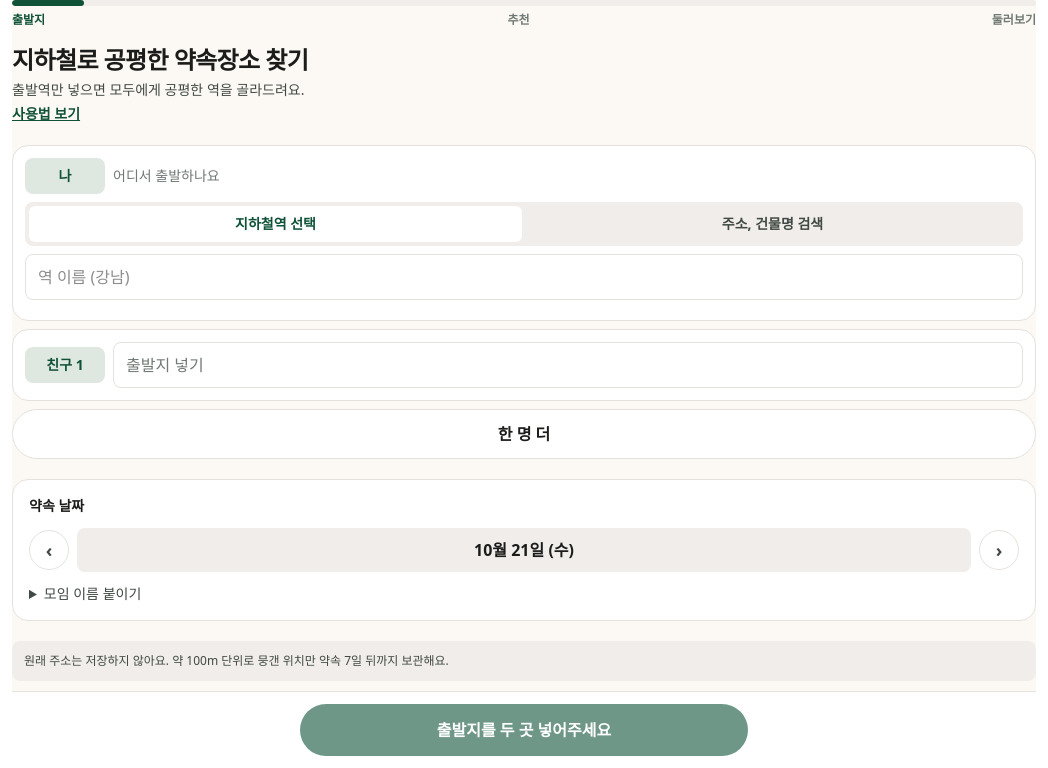
Test case: 두 곳을 넣으면 링크 길은 숨기고 추천 보기만 남긴다
In the field named "출발지 검색": (524, 277) [25,254,1023,300], type "강남"
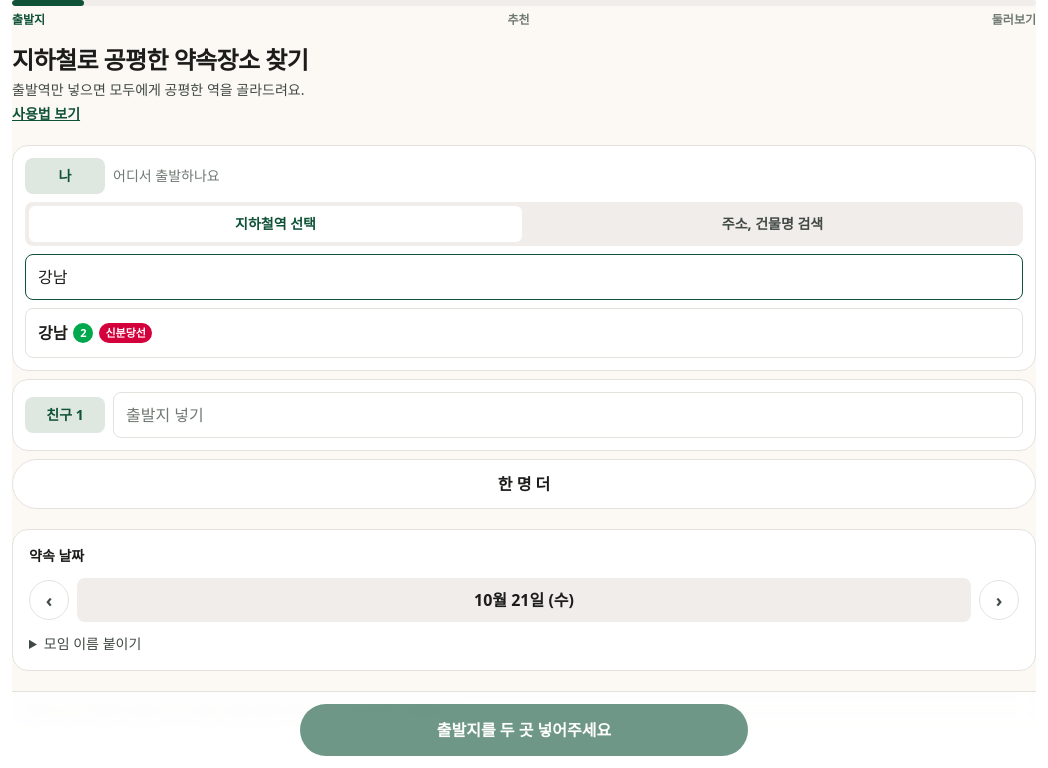
Click the button "강남 2 신분당선": (126, 333) [25,308,1023,358]
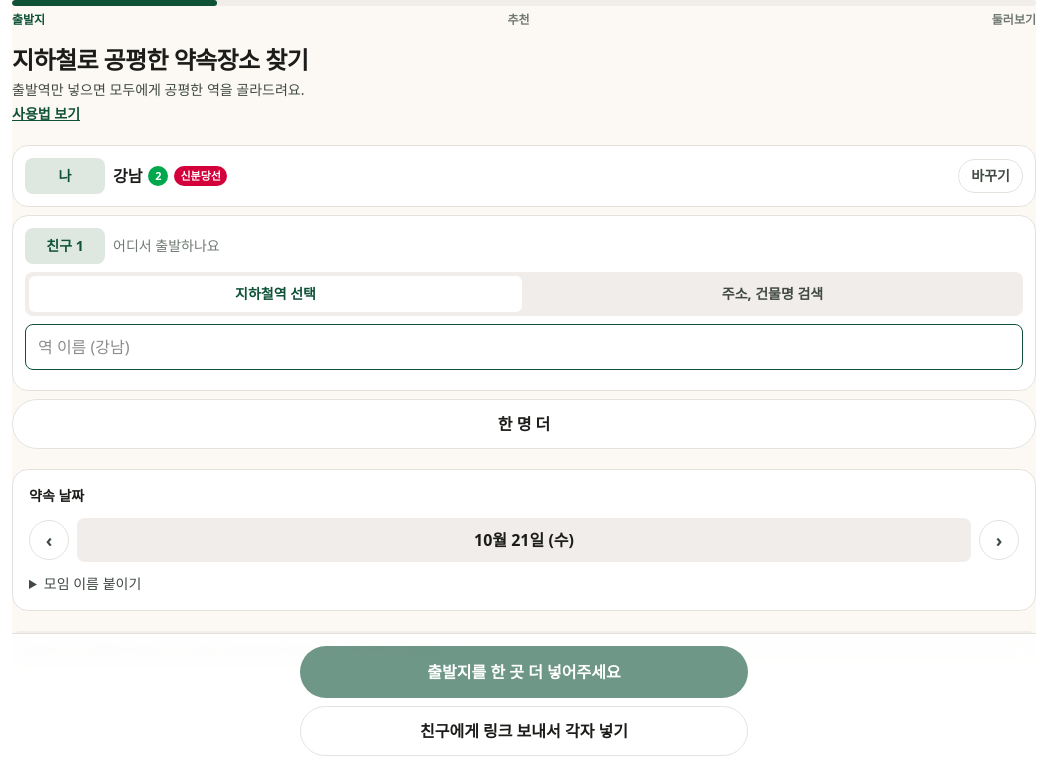
In the field named "출발지 검색": (524, 347) [25,324,1023,370], type "수원"
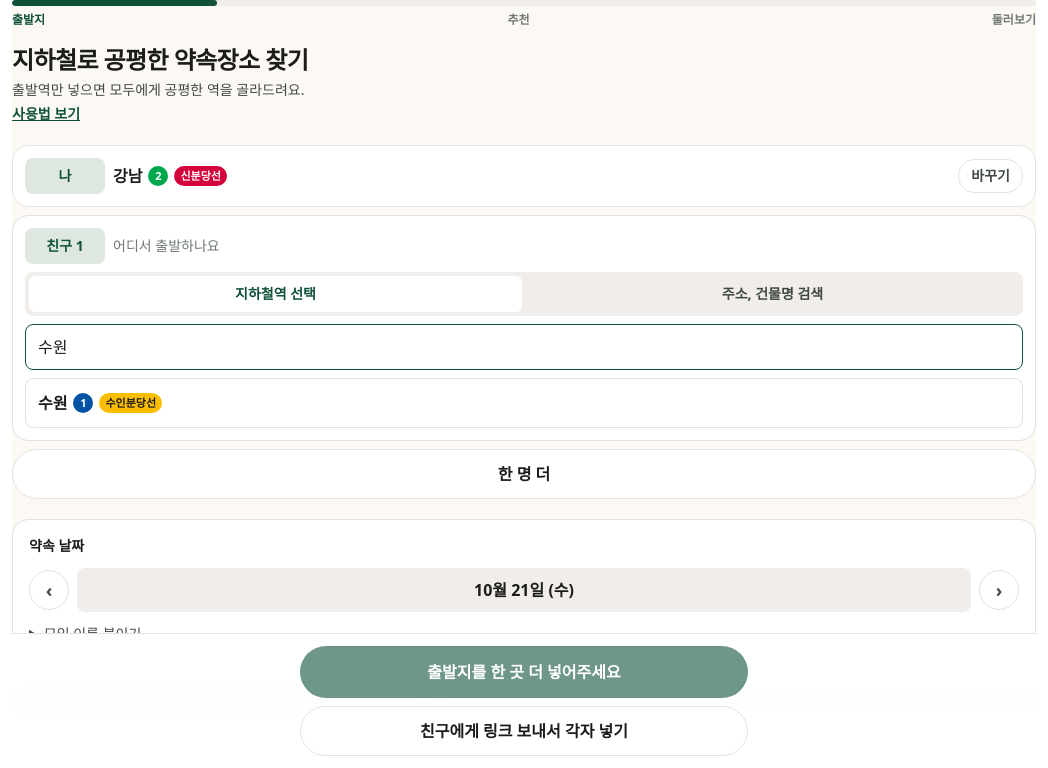
Click the button "수원 1 수인분당선": (131, 403) [25,378,1023,428]
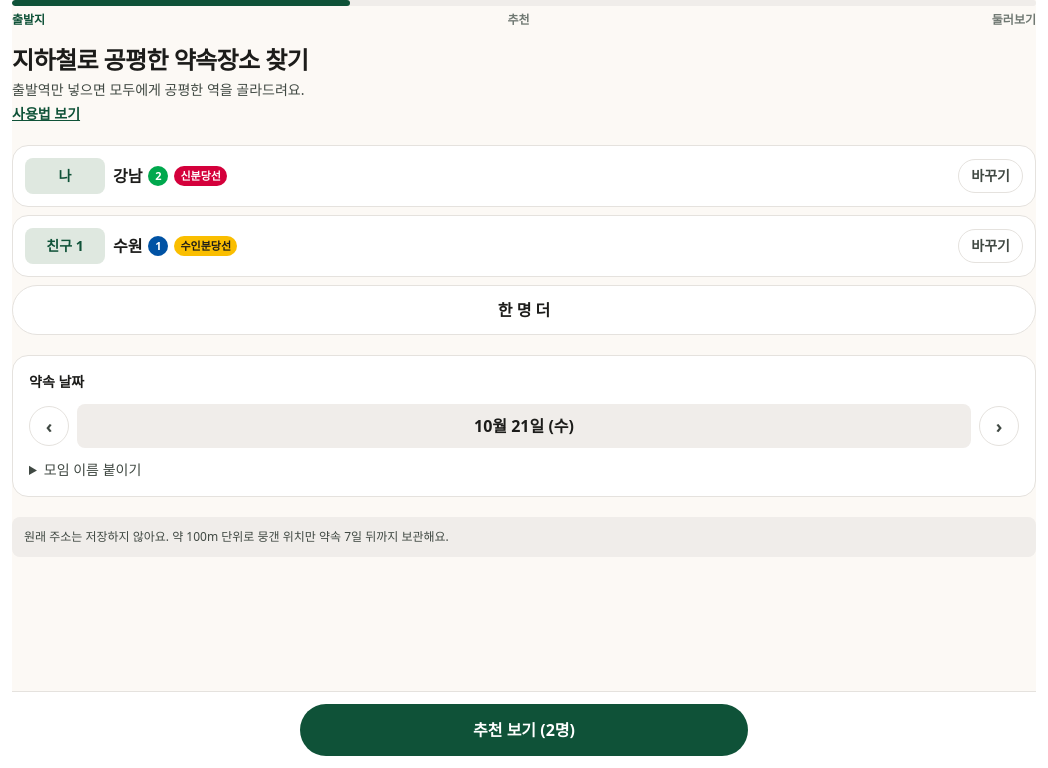
Check: the button "친구에게 링크 보내서 각자 넣기" is gone
Check: the button "추천 보기 (2명)" is enabled, box [300,704,748,756]
